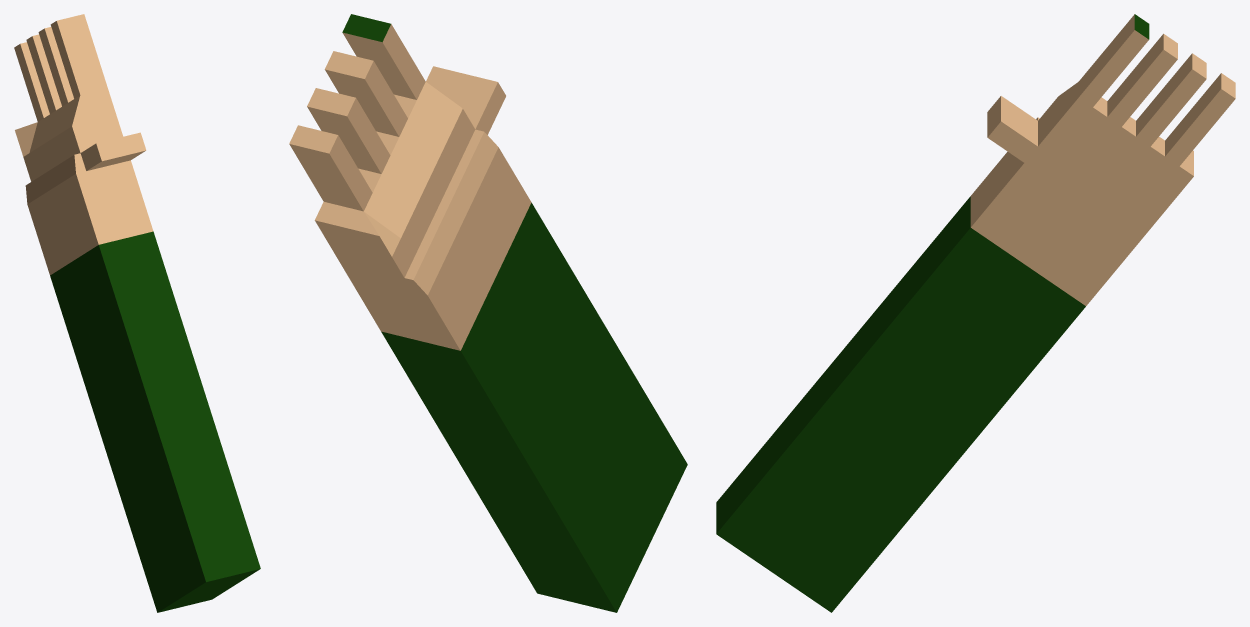
File: playerhand.glb
3 views of the same model, side by side, from view 1: azimuth 30°, elevation 25°; view 2: azimuth 150°, elevation 25°; view 3: azimuth 270°, elevation 25° (orthographic). The views are drawn at different scales.
Visible parts, largest first — view 1: Cube; view 2: Cube; view 3: Cube.
Boxes of the visible parts, <box> form: Cube: <box>14,14,260,612</box>; Cube: <box>289,14,687,612</box>; Cube: <box>716,14,1235,612</box>.
Size of the model in its own units: 0.1255 by 1.08 by 0.8698.
